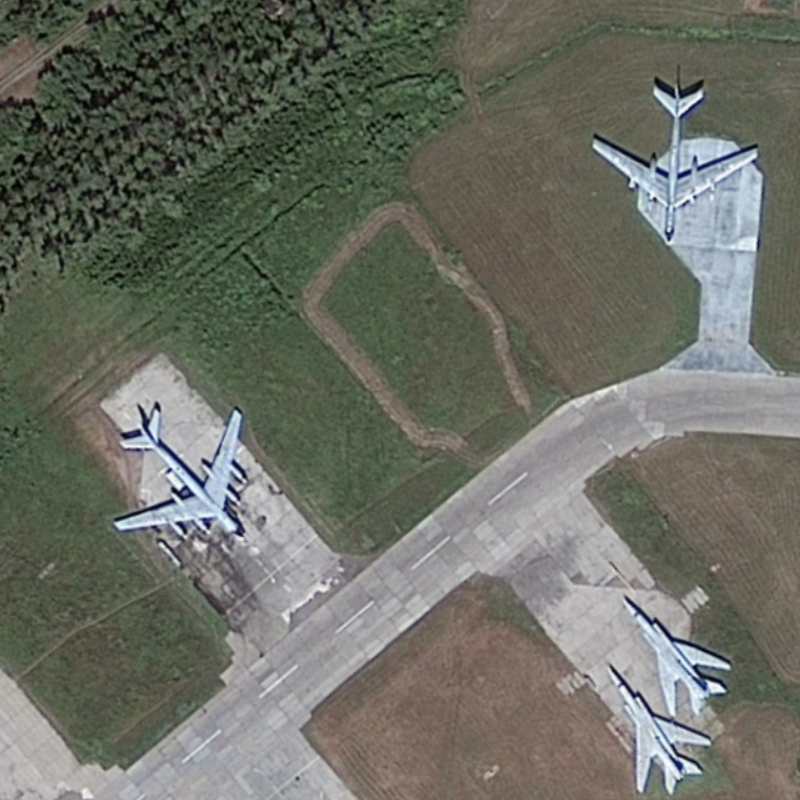A12: (602, 661, 714, 797), (620, 596, 734, 720)
A17: (590, 82, 760, 244), (109, 405, 251, 542)
